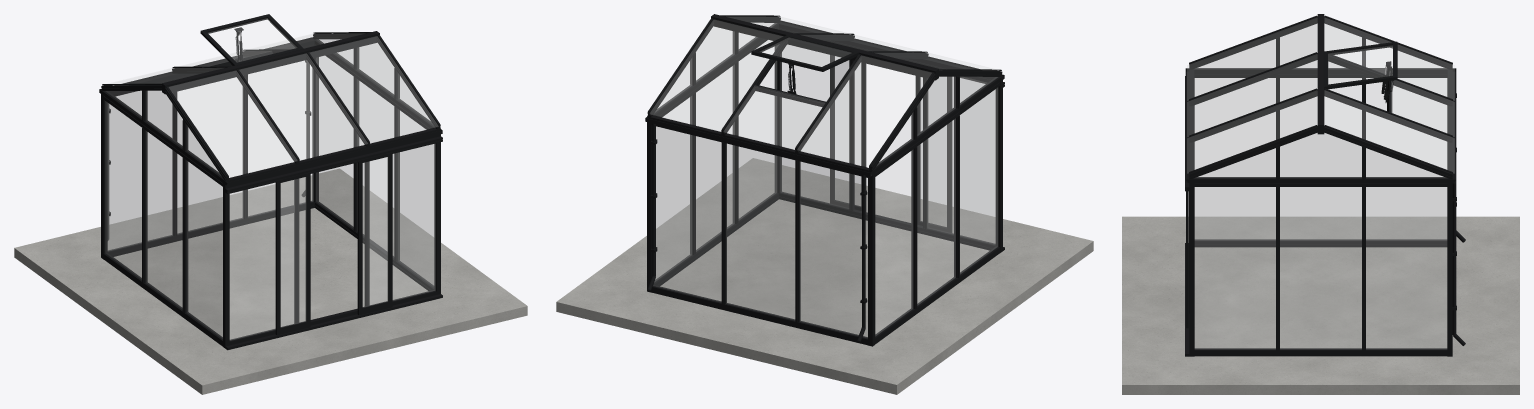
Rendered from sg-rect-7-9-7-9.glb.
3 renders of one model, left to right at view 1: azimuth 30°, elevation 25°; view 2: azimuth 150°, elevation 25°; view 3: azimuth 270°, elevation 25°, orthographic. The views are drawn at different scales.
Visible parts, largest first — view 1: scandiglas-rect-7-9-7-9; view 2: scandiglas-rect-7-9-7-9; view 3: scandiglas-rect-7-9-7-9.
Part boxes in pixels (<box>): scandiglas-rect-7-9-7-9: <box>14,14,527,394</box>; scandiglas-rect-7-9-7-9: <box>556,14,1093,394</box>; scandiglas-rect-7-9-7-9: <box>1122,14,1519,394</box>.
Size of the model in its own units: 3.64 by 2.54 by 3.64.
Materials: 5 (1 with a texture image).
